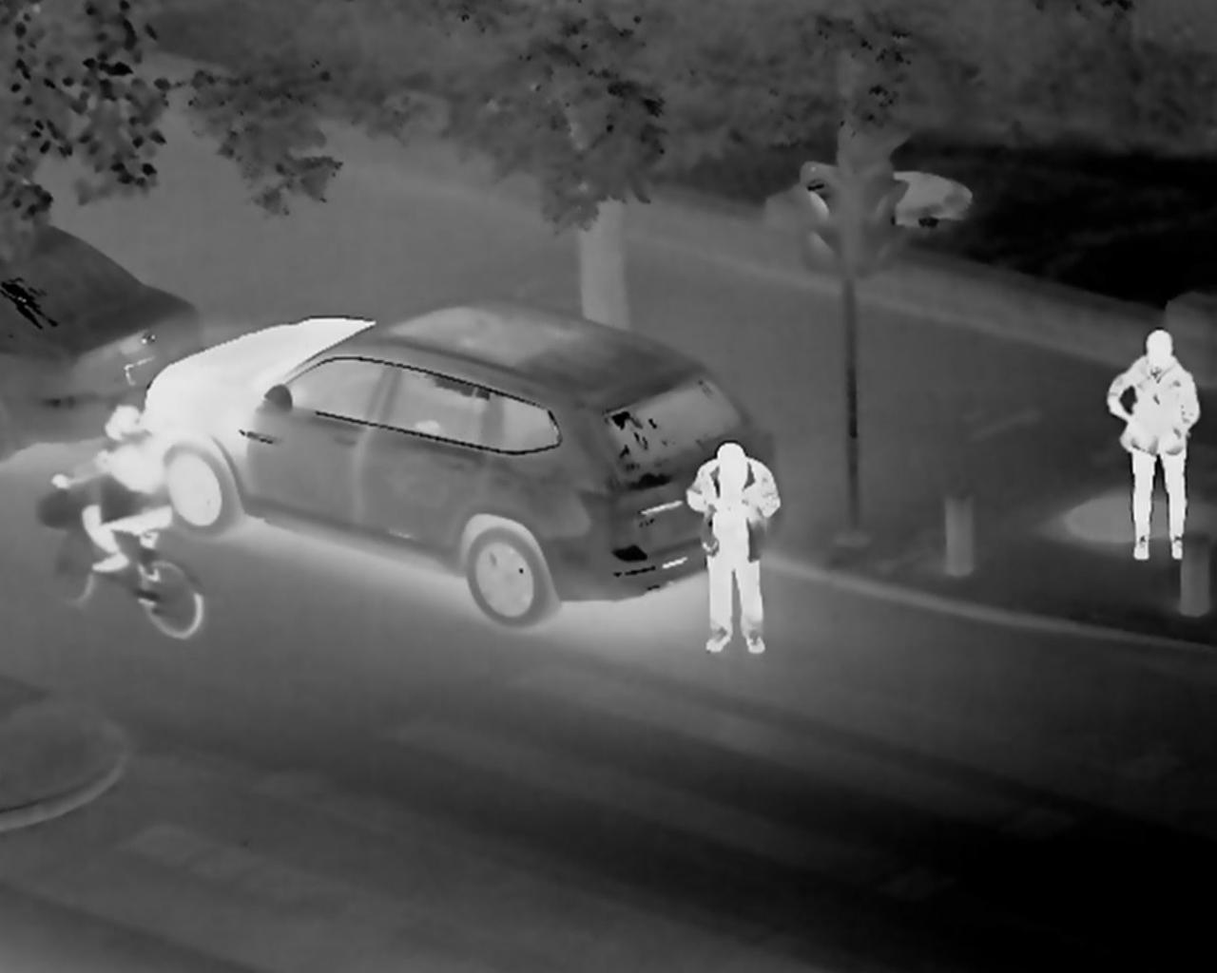person: (1101, 330, 1198, 556), (683, 438, 782, 658), (83, 409, 169, 580)
